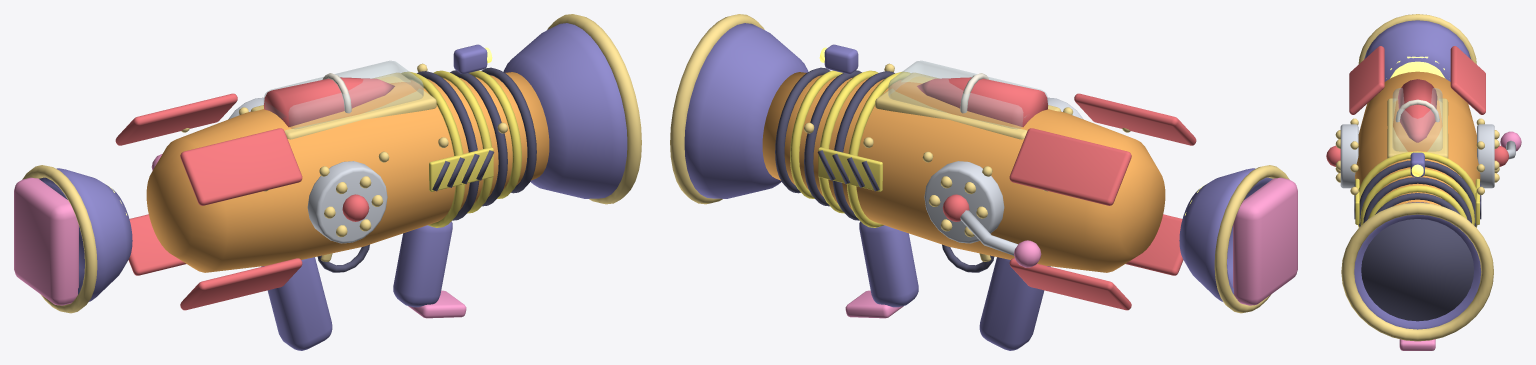
File: weap_rocketl.glb
The picture shows the model from 3 angles, left to right: view 1: azimuth 30°, elevation 25°; view 2: azimuth 150°, elevation 25°; view 3: azimuth 270°, elevation 25°; orthographic projection. The views are drawn at different scales.
Visible parts, largest first — view 1: W_Rocket__rk_orange, W_Rocket__rk_navyl, W_Rocket__rk_red, W_Rocket__rk_gold, W_Rocket__rk_pink, W_Rocket__rk_yellow, W_Rocket__rk_navy, W_Rocket__rk_glass, W_Rocket__rk_steel; view 2: W_Rocket__rk_orange, W_Rocket__rk_navyl, W_Rocket__rk_red, W_Rocket__rk_gold, W_Rocket__rk_pink, W_Rocket__rk_yellow, W_Rocket__rk_navy, W_Rocket__rk_steel, W_Rocket__rk_glass; view 3: W_Rocket__rk_navy, W_Rocket__rk_gold, W_Rocket__rk_orange, W_Rocket__rk_navyl, W_Rocket__rk_red, W_Rocket__rk_yellow, W_Rocket__rk_glass, W_Rocket__rk_steel, W_Rocket__rk_glow, W_Rocket__rk_pink, W_Rocket__rk_cream.
Boxes of the visible parts, box(x1,y1,x2,y2) form: W_Rocket__rk_orange: box(146, 72, 549, 272); W_Rocket__rk_navyl: box(39, 23, 627, 350); W_Rocket__rk_red: box(115, 77, 394, 310); W_Rocket__rk_gold: box(22, 14, 641, 313); W_Rocket__rk_pink: box(14, 154, 466, 318); W_Rocket__rk_yellow: box(401, 70, 521, 227); W_Rocket__rk_navy: box(317, 67, 536, 272); W_Rocket__rk_glass: box(263, 60, 423, 128); W_Rocket__rk_steel: box(228, 97, 387, 243); W_Rocket__rk_orange: box(762, 72, 1165, 272); W_Rocket__rk_navyl: box(684, 23, 1272, 350); W_Rocket__rk_red: box(917, 77, 1196, 310); W_Rocket__rk_gold: box(670, 14, 1289, 313); W_Rocket__rk_pink: box(845, 177, 1297, 318); W_Rocket__rk_yellow: box(790, 70, 910, 227); W_Rocket__rk_navy: box(775, 67, 994, 272); W_Rocket__rk_steel: box(924, 97, 1083, 255); W_Rocket__rk_glass: box(888, 60, 1048, 128); W_Rocket__rk_navy: box(1354, 160, 1481, 321); W_Rocket__rk_gold: box(1335, 14, 1499, 341); W_Rocket__rk_orange: box(1355, 71, 1480, 205); W_Rocket__rk_navyl: box(1354, 20, 1481, 329); W_Rocket__rk_red: box(1326, 46, 1508, 166); W_Rocket__rk_yellow: box(1355, 151, 1479, 227); W_Rocket__rk_glass: box(1392, 88, 1442, 151); W_Rocket__rk_steel: box(1340, 124, 1515, 188); W_Rocket__rk_glow: box(1386, 56, 1445, 176); W_Rocket__rk_pink: box(1399, 131, 1521, 350); W_Rocket__rk_cream: box(1395, 99, 1439, 122).
Bounding box in the file's own units: 1.42 × 0.6356 × 0.545.
